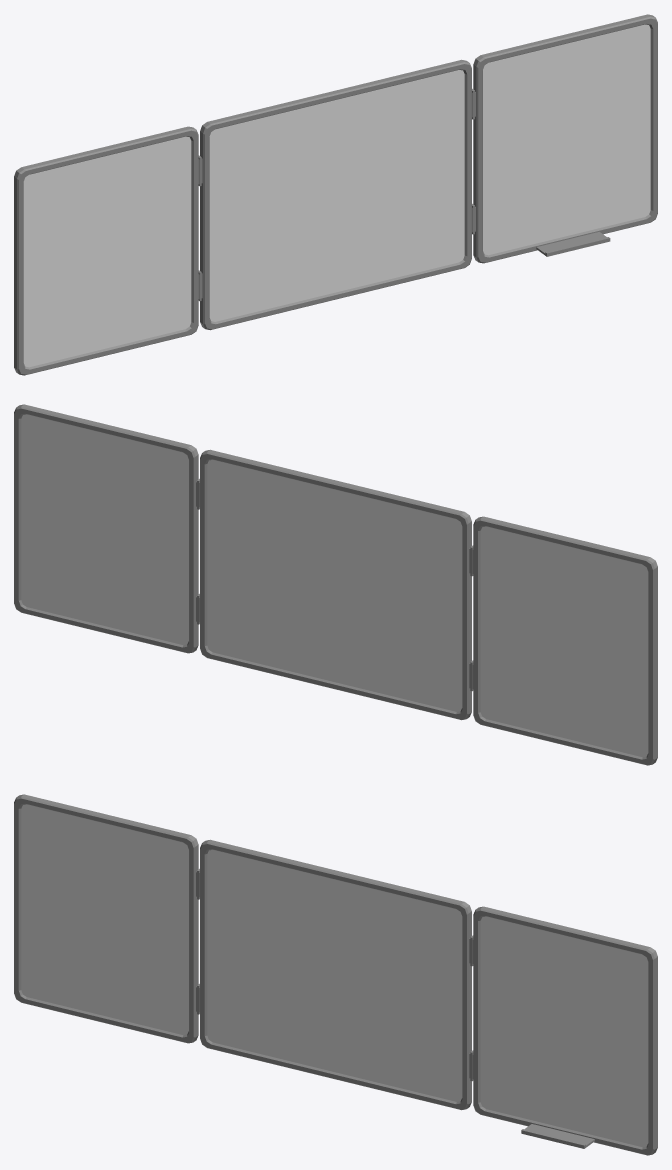
The model's file is Int_Board01_1.fbx.
The picture shows the model from 3 angles, top to bottom: view 1: azimuth 30°, elevation 25°; view 2: azimuth 150°, elevation 25°; view 3: azimuth 330°, elevation 25°; orthographic projection.
Parts seen in each view (by area): view 1: Int_Board01_1, Int_Board1_01, Int_Board2_01; view 2: Int_Board01_1, Int_Board2_01, Int_Board1_01; view 3: Int_Board01_1, Int_Board1_01, Int_Board2_01.
Part boxes in pixels (<box>): Int_Board01_1: <box>200,59,472,330</box>; Int_Board1_01: <box>472,14,657,263</box>; Int_Board2_01: <box>14,126,201,375</box>; Int_Board01_1: <box>199,449,471,720</box>; Int_Board2_01: <box>470,516,657,765</box>; Int_Board1_01: <box>14,404,199,653</box>; Int_Board01_1: <box>199,839,471,1110</box>; Int_Board1_01: <box>470,906,657,1155</box>; Int_Board2_01: <box>14,794,199,1043</box>.
Size of what is drawn, in the model's own units: 399 by 16.41 by 122.
